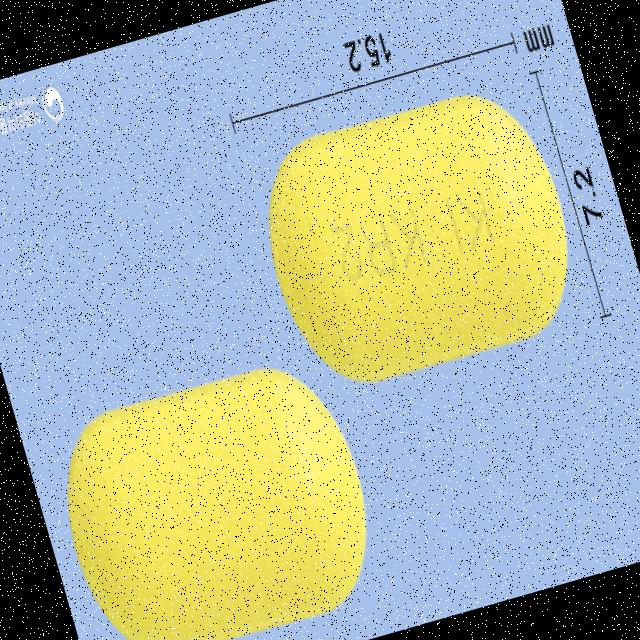Clarithromycin Tab- LGCI: (240, 74, 594, 404), (36, 345, 393, 640)
